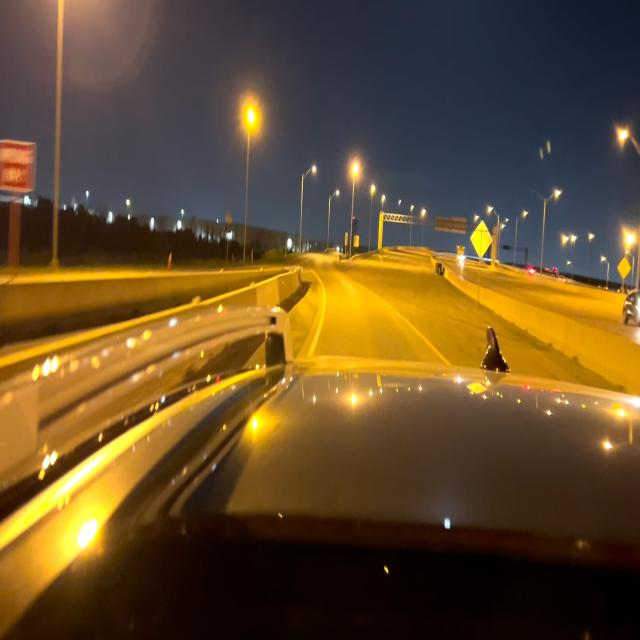back-of-sign: (469, 220, 491, 259)
